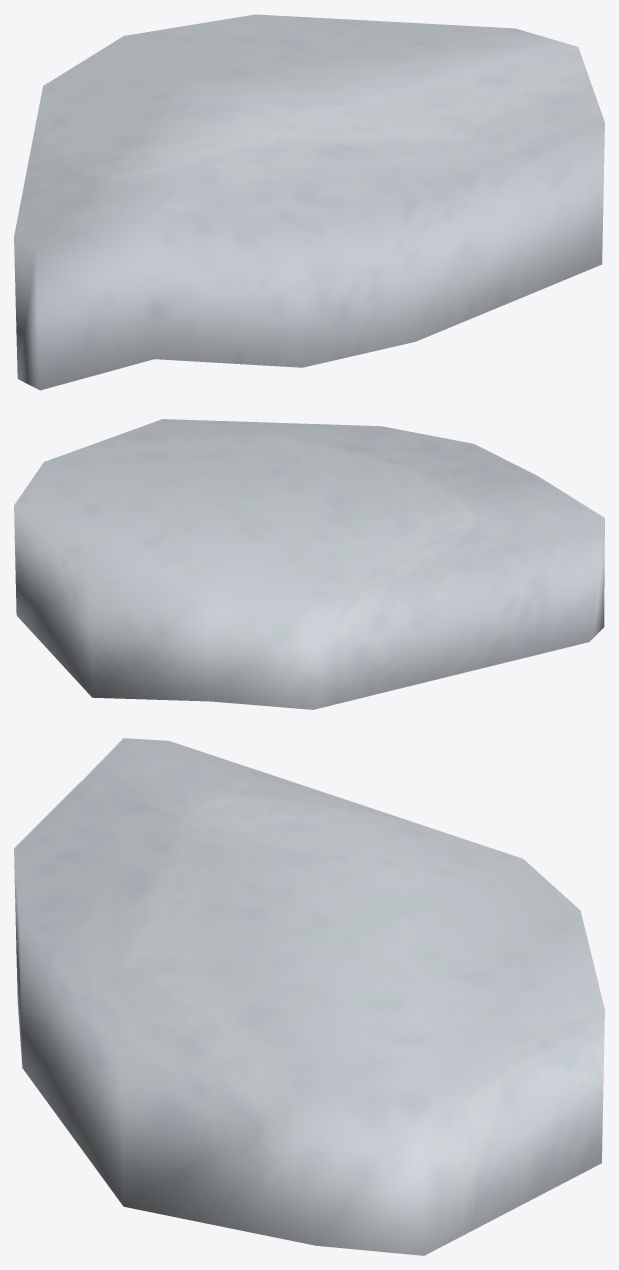
File: Rock_3_Snow.fbx
3 renders of one model, top to bottom at view 1: azimuth 30°, elevation 25°; view 2: azimuth 150°, elevation 25°; view 3: azimuth 270°, elevation 25°, orthographic. The views are drawn at different scales.
Parts seen in each view (by area): view 1: Rock_3_Snow; view 2: Rock_3_Snow; view 3: Rock_3_Snow.
Part boxes in pixels (left/top/right/bottom): Rock_3_Snow: left=14, top=14, right=604, bottom=390; Rock_3_Snow: left=14, top=419, right=604, bottom=709; Rock_3_Snow: left=14, top=738, right=604, bottom=1255.
Bounding box in the file's own units: 126 × 39.22 × 93.56.
